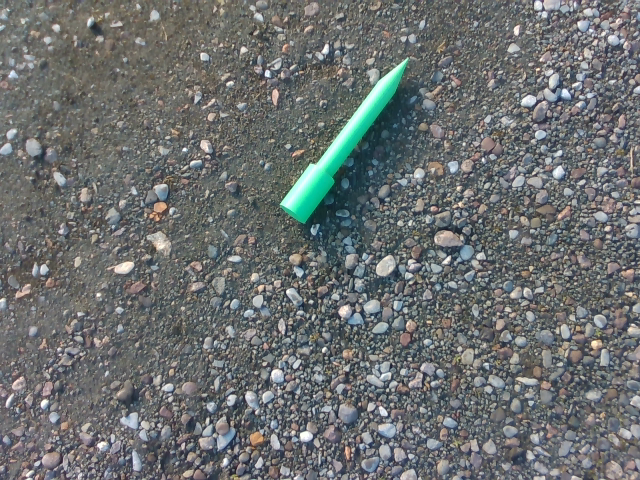Probe: (275, 44, 413, 231)
